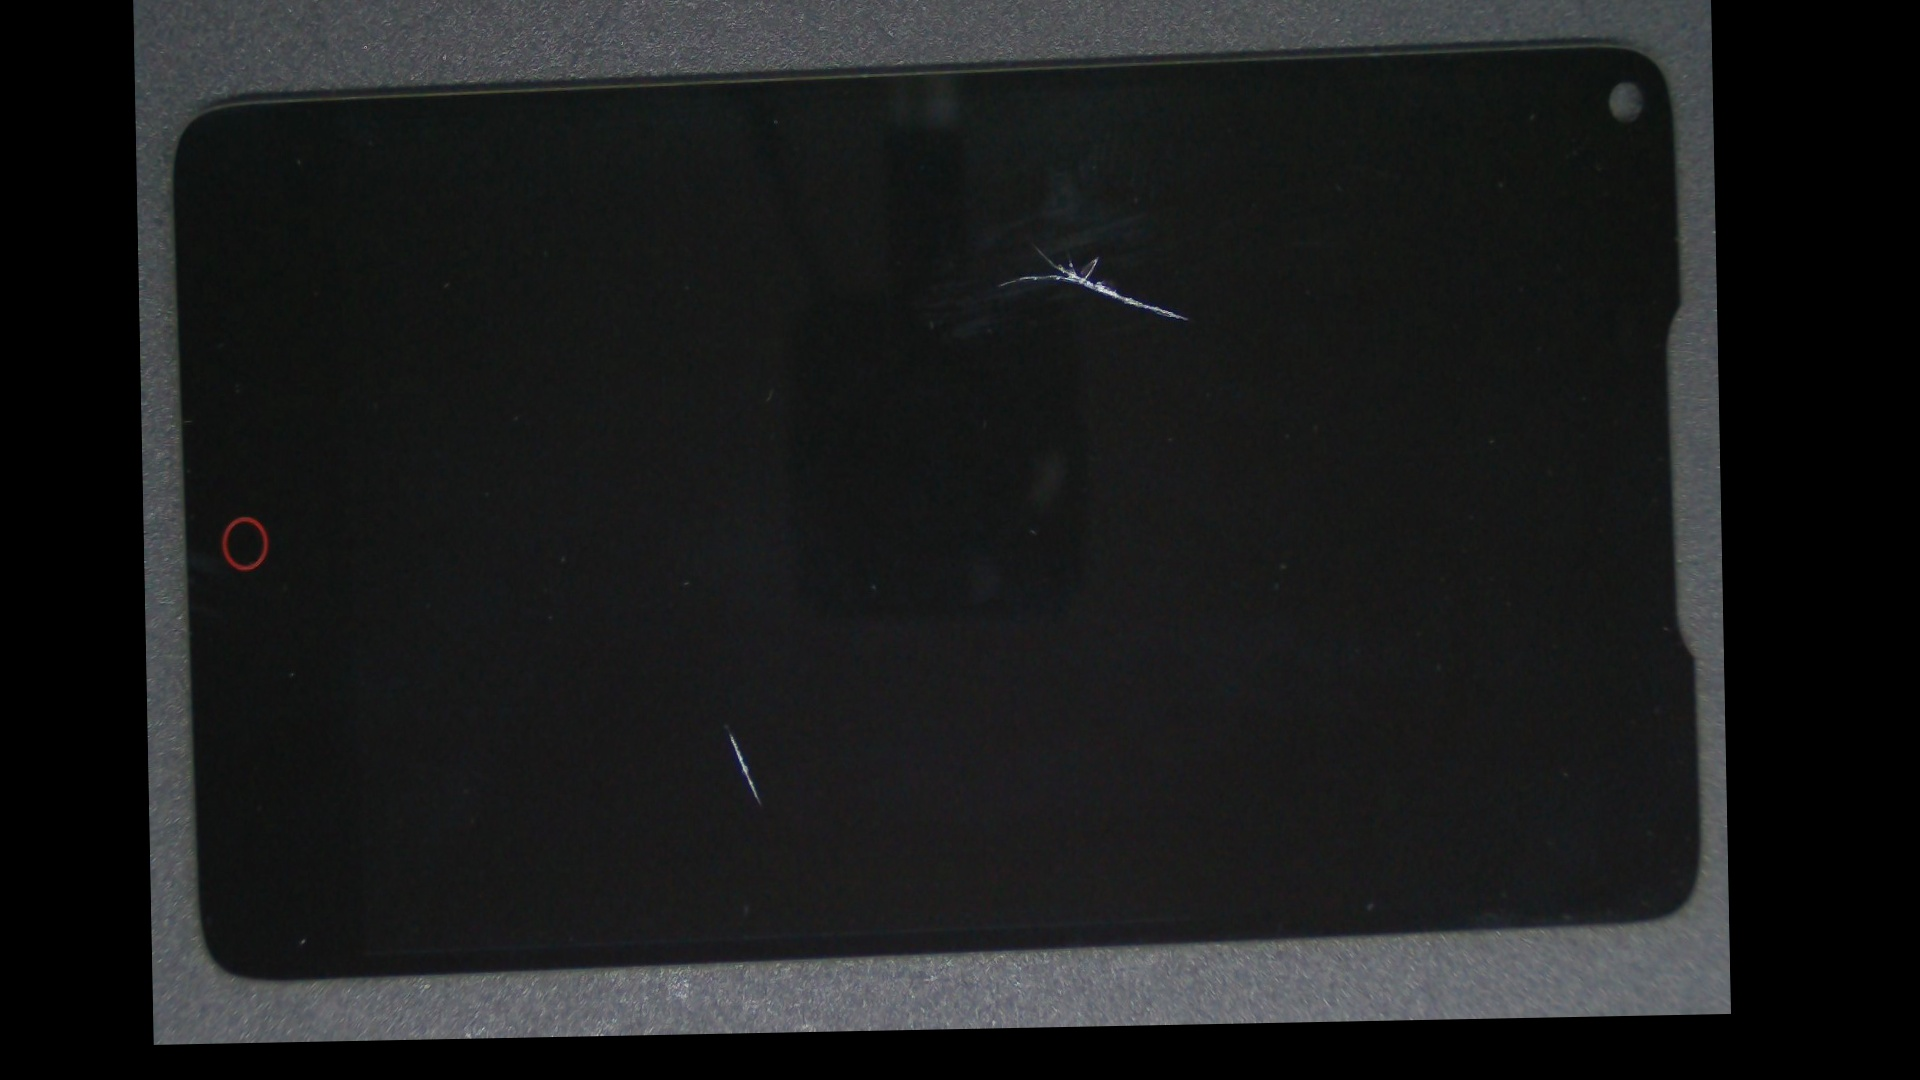oil: (431, 349, 1025, 1039), (583, 100, 1484, 388)
